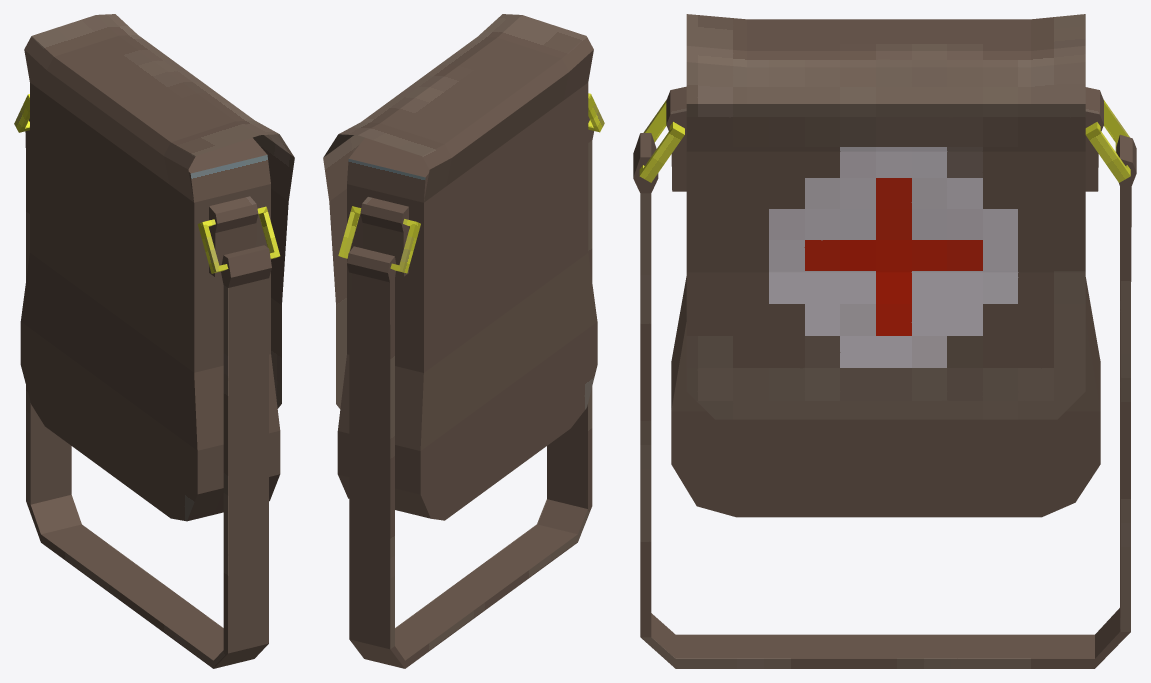
The model's file is poemdexter_satchel.fbx.
3 views of the same model, side by side, from view 1: azimuth 30°, elevation 25°; view 2: azimuth 150°, elevation 25°; view 3: azimuth 270°, elevation 25° (orthographic). The views are drawn at different scales.
Visible parts, largest first — view 1: Satchel; view 2: Satchel; view 3: Satchel.
Boxes of the visible parts, <box> form: Satchel: <box>14,14,294,668</box>; Satchel: <box>323,14,604,668</box>; Satchel: <box>633,14,1136,668</box>.
Size of the model in its own units: 0.3051 by 1.42 by 1.03.
